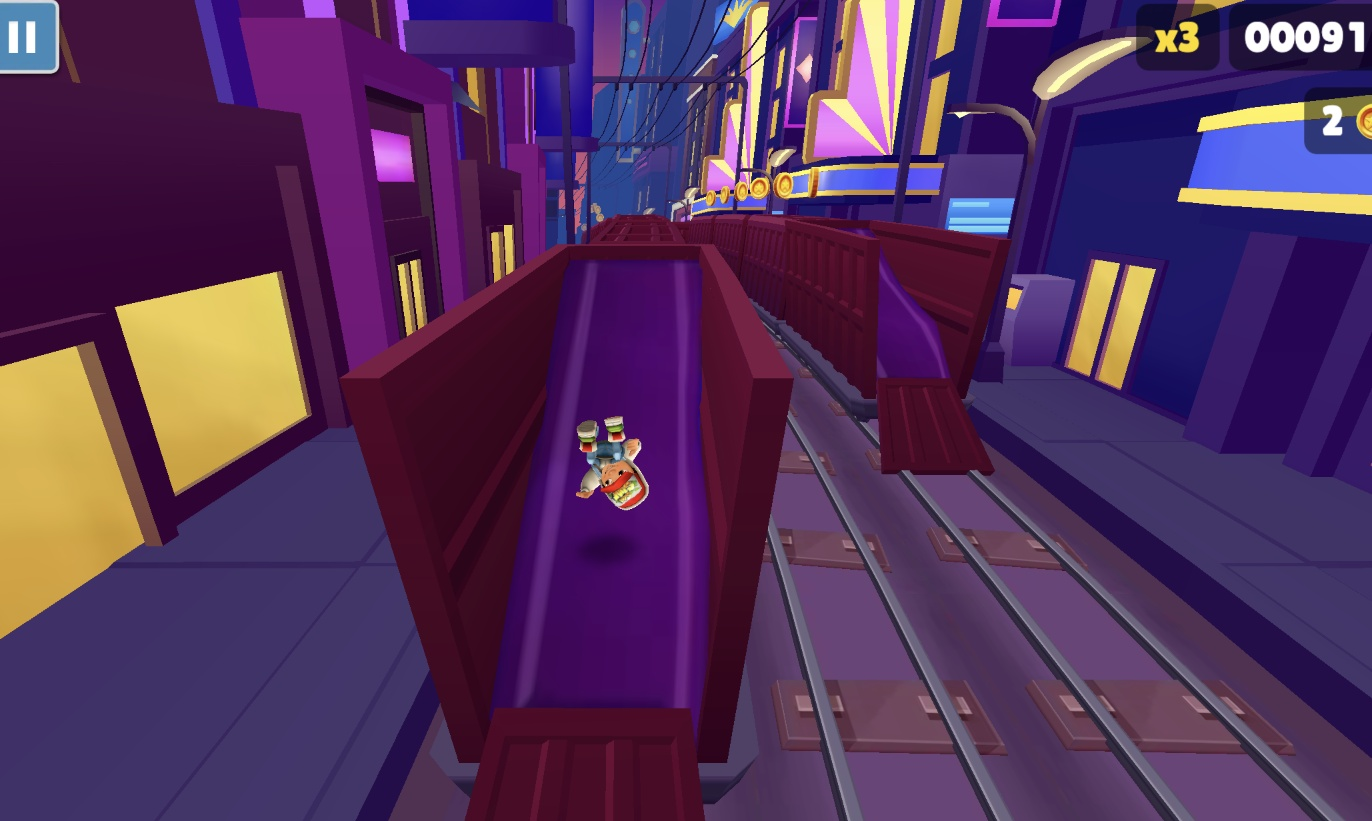train: (341, 220, 799, 821), (680, 216, 1019, 475)
